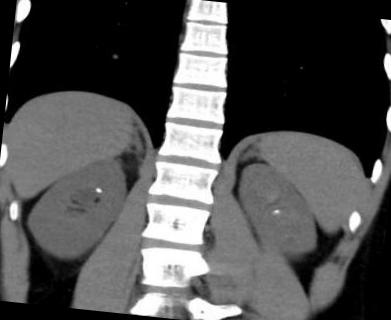Tas_Var: (91, 186, 104, 195), (268, 208, 281, 216)
